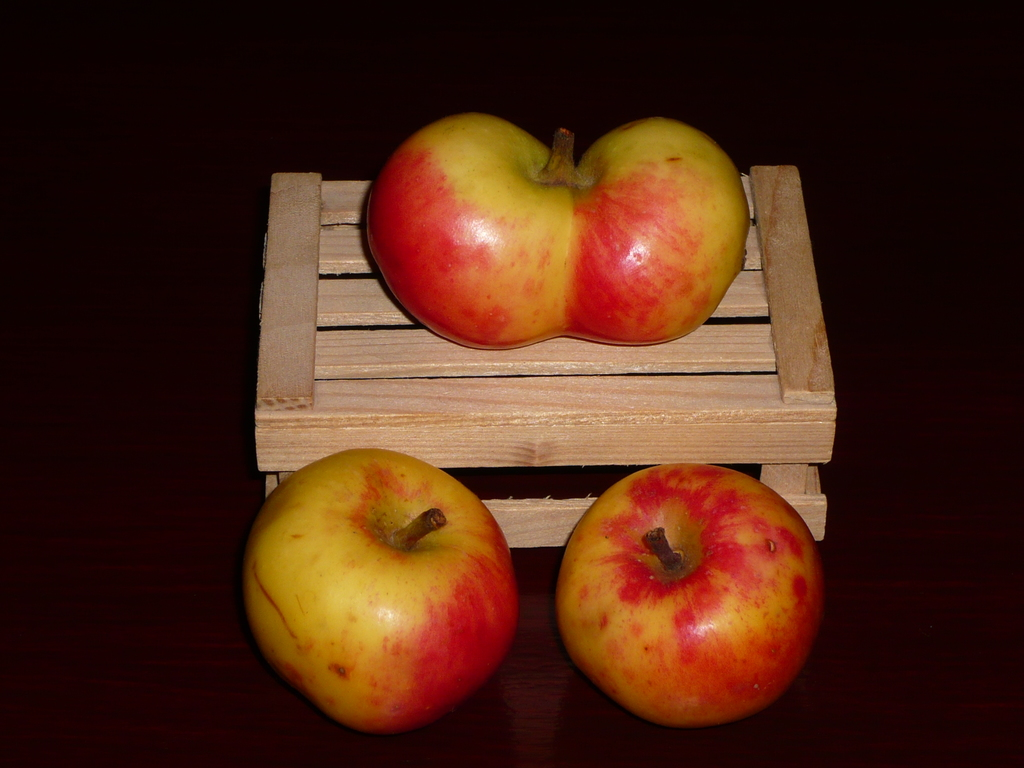Apple: (359, 116, 753, 351), (233, 448, 521, 734), (550, 481, 817, 740)
